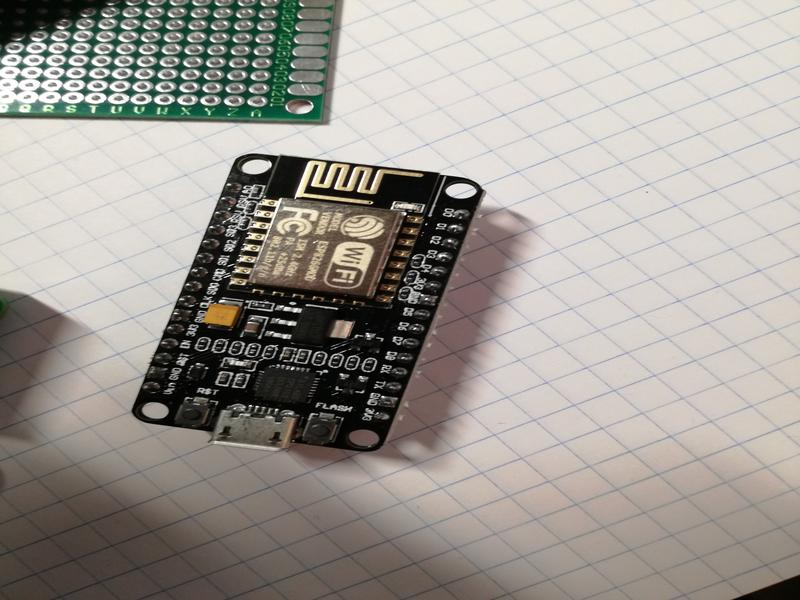ESP8266: (138, 148, 490, 456)
